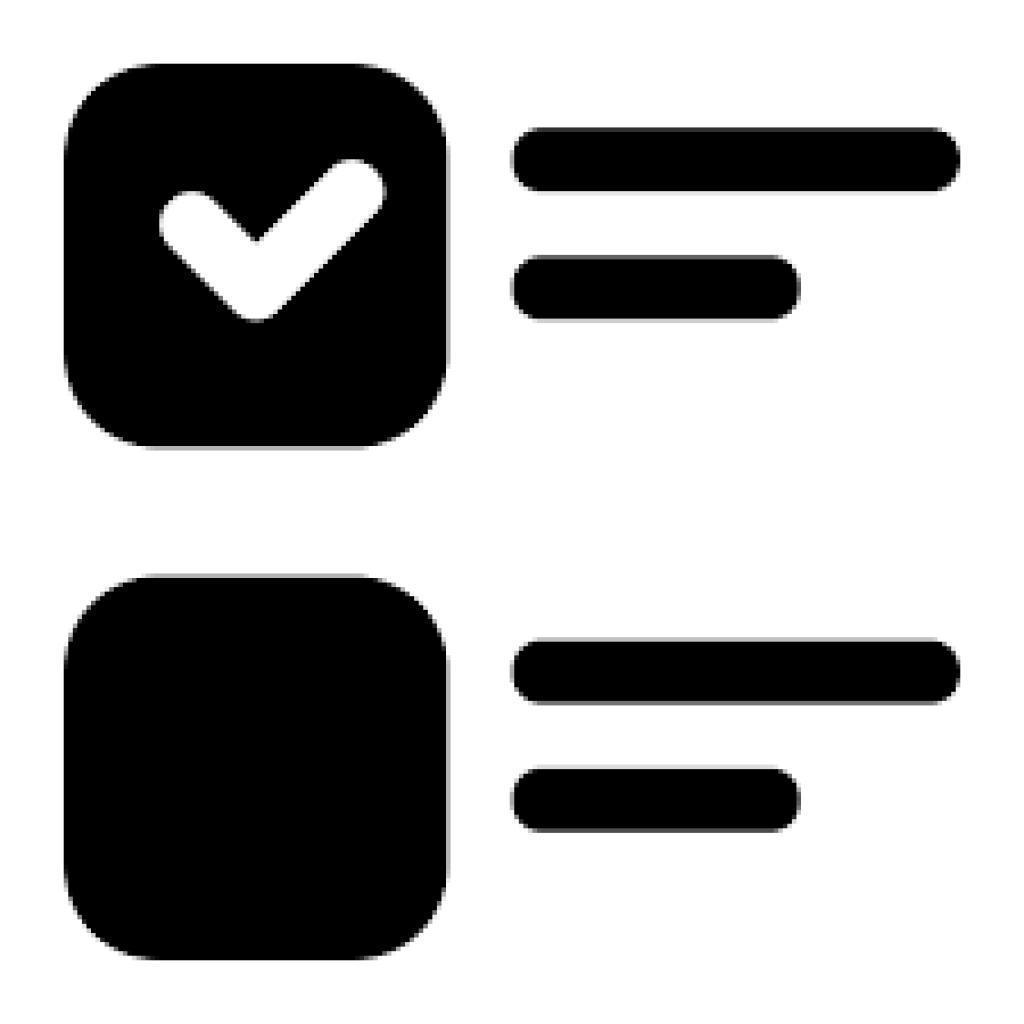checkbox: (65, 574, 449, 963), (63, 66, 446, 450)
label: (507, 634, 964, 836), (511, 121, 965, 322)
